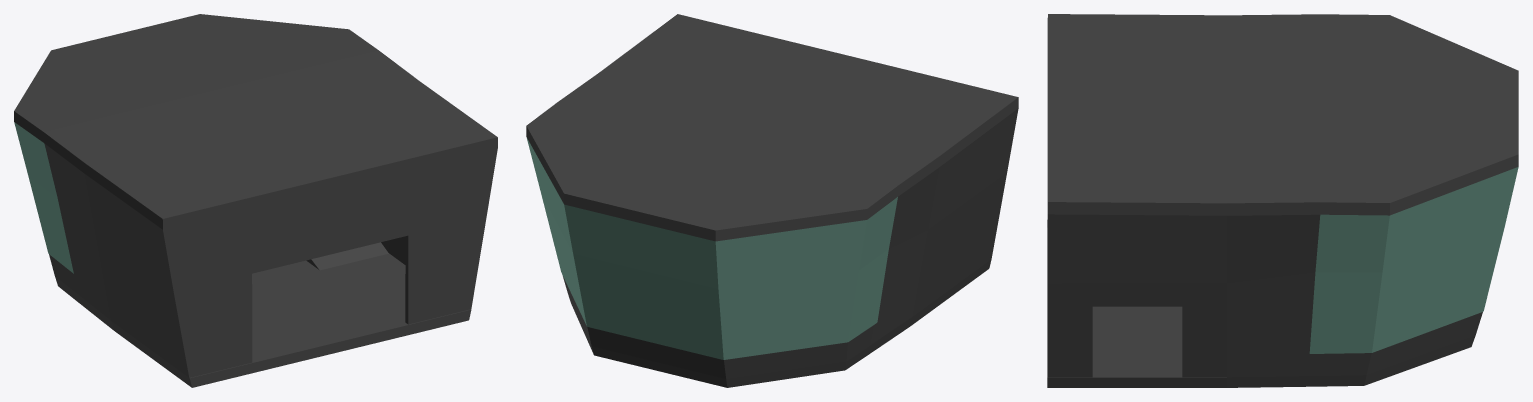
Rendered from mdl_controllStation.fbx.
The picture shows the model from 3 angles, left to right: view 1: azimuth 30°, elevation 25°; view 2: azimuth 150°, elevation 25°; view 3: azimuth 270°, elevation 25°; orthographic projection. The views are drawn at different scales.
Parts seen in each view (by area): view 1: mesh_controllPlatform, mesh_controllPlatformOpener; view 2: mesh_controllPlatform; view 3: mesh_controllPlatform, mesh_controllPlatformOpener.
Boxes of the visible parts, bbox=[...] form: mesh_controllPlatform: bbox=[14, 14, 497, 387]; mesh_controllPlatformOpener: bbox=[252, 297, 334, 333]; mesh_controllPlatform: bbox=[526, 14, 1018, 387]; mesh_controllPlatform: bbox=[1047, 14, 1518, 387]; mesh_controllPlatformOpener: bbox=[1099, 306, 1174, 313].
Bounding box in the file's own units: 84.85 × 42.6 × 89.92.
